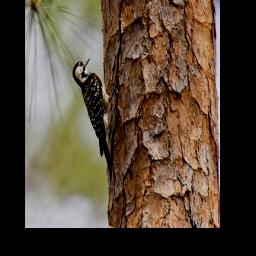Woodpecker: (72, 57, 119, 184)
